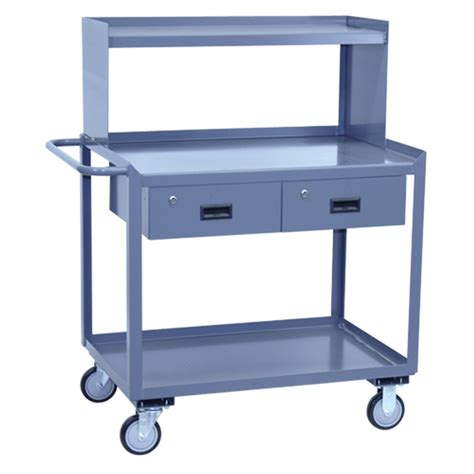Carts: (50, 12, 427, 458)
